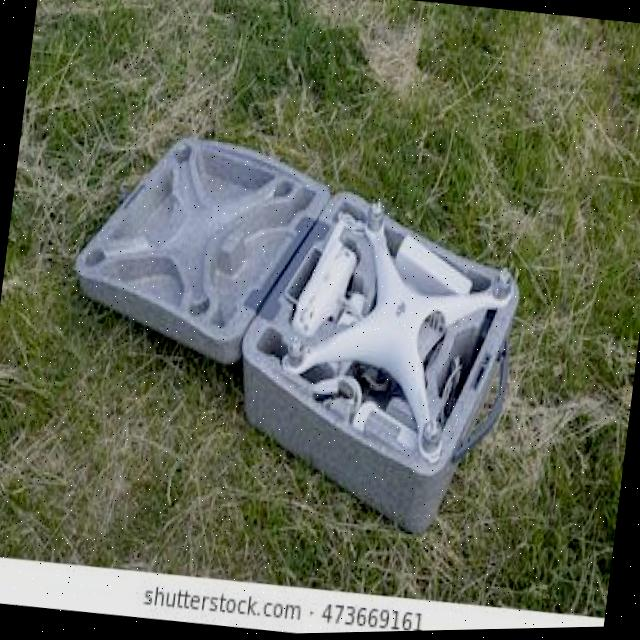drone: (225, 177, 542, 495)
